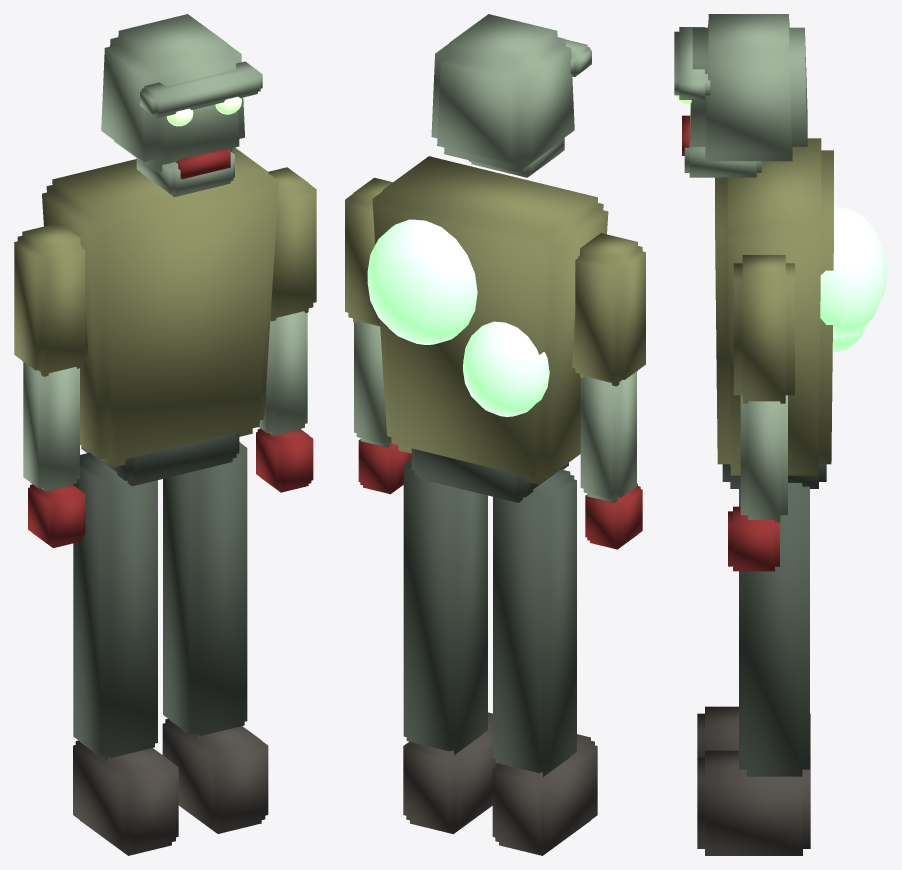
The model's file is zombie-spitter.glb.
3 views of the same model, side by side, from view 1: azimuth 30°, elevation 25°; view 2: azimuth 150°, elevation 25°; view 3: azimuth 270°, elevation 25° (orthographic).
Visible parts, largest first — view 1: Torso, Leg_L, Leg_R, Arm_L, Head, Arm_R, Jaw; view 2: Torso, Leg_L, Leg_R, Arm_L, Head, Arm_R, Jaw; view 3: Torso, Leg_R, Head, Arm_R, Leg_L, Jaw.
Boxes of the visible parts, box(x1,y1,x2,y2) form: Torso: box(42, 147, 278, 486); Leg_L: box(73, 452, 178, 855); Leg_R: box(162, 442, 268, 833); Arm_L: box(14, 223, 88, 548); Head: box(101, 14, 262, 172); Arm_R: box(256, 167, 316, 492); Jaw: box(136, 148, 234, 197); Torso: box(367, 156, 608, 502); Leg_L: box(492, 469, 597, 855); Leg_R: box(403, 458, 497, 834); Arm_L: box(572, 233, 645, 549); Head: box(431, 14, 591, 172); Arm_R: box(345, 177, 411, 494); Jaw: box(468, 138, 564, 177); Torso: box(715, 138, 887, 488); Leg_R: box(697, 483, 810, 855); Head: box(674, 14, 807, 161); Arm_R: box(728, 255, 794, 571); Leg_L: box(697, 706, 810, 757); Jaw: box(682, 115, 761, 177).
Size of the model in its own units: 0.6475 by 1.73 by 0.4233.
